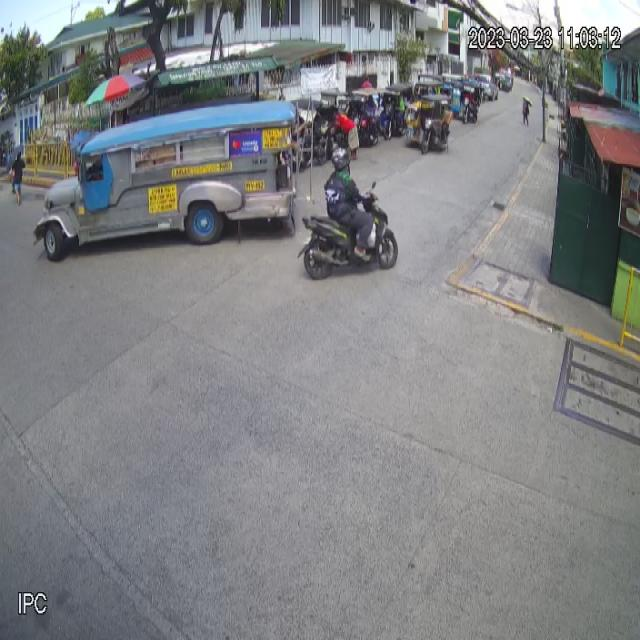Jeep: (31, 100, 300, 261)
Motorcycle: (297, 180, 398, 284)
